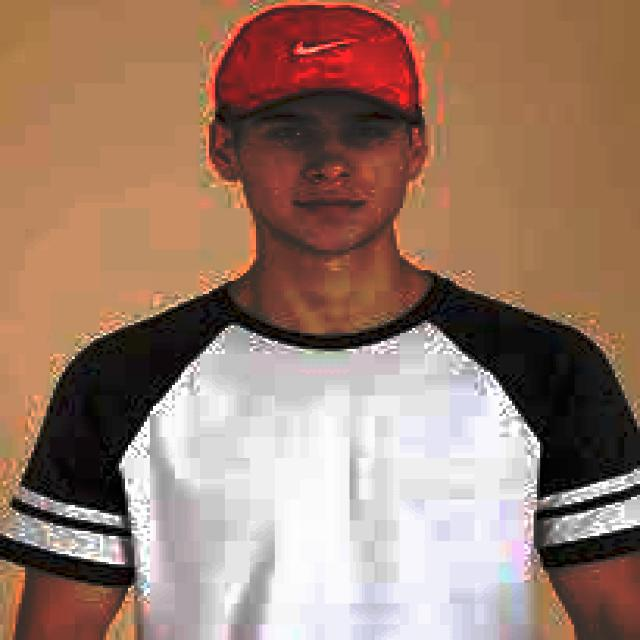TOPI: (203, 0, 428, 127)
